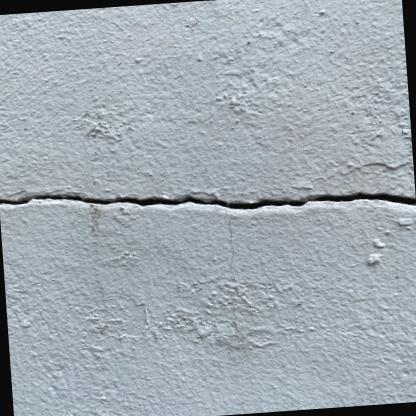crack: (0, 193, 416, 208)
